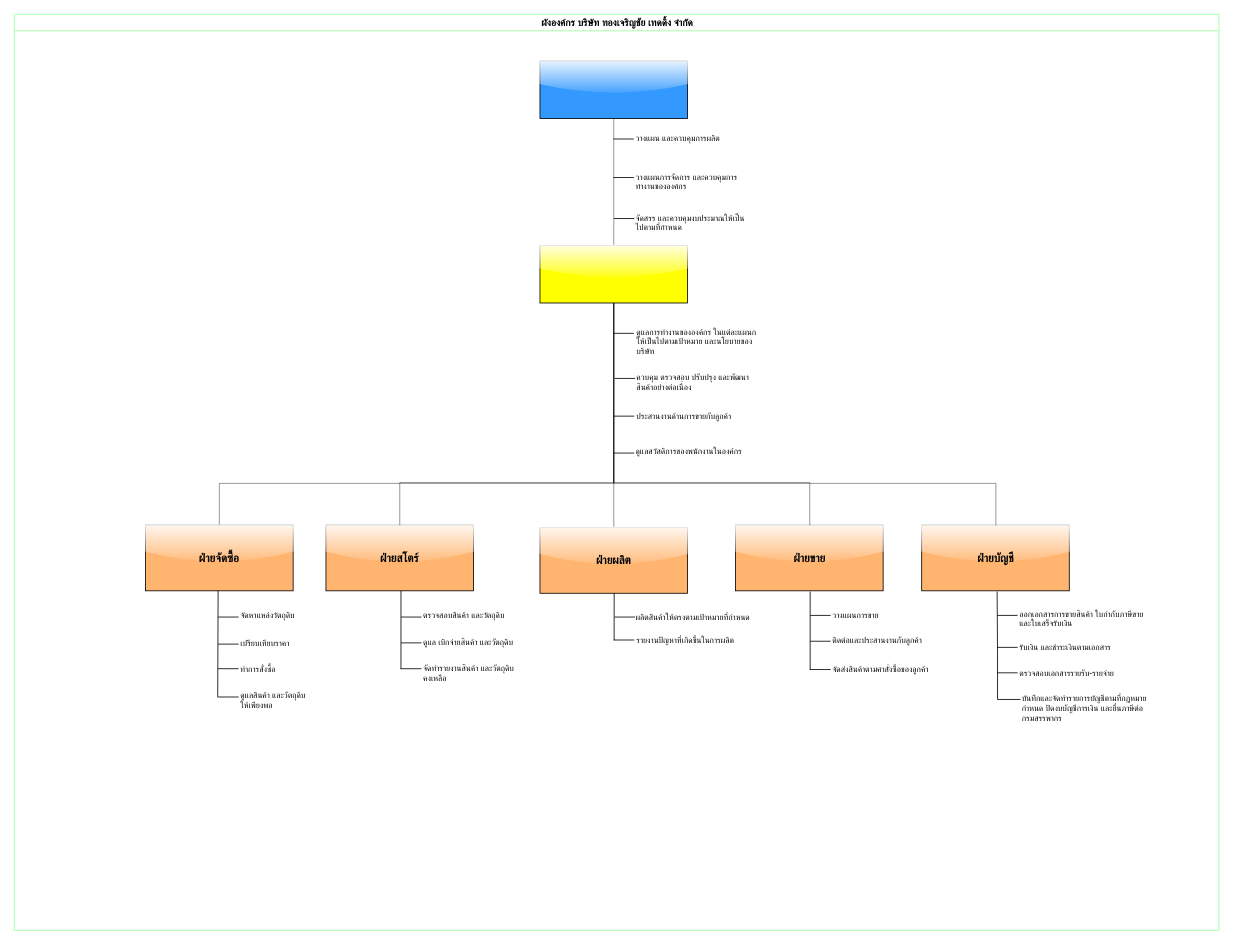
Image size: 1233x945. Some labels were removed from this diagram. The shapes that lost their labels are listed below. From the top down, each one's centre as x and y in pixels, then its label:
At (x=613, y=89): "กรรมการผู้จัดการ".
At (x=613, y=274): "ฝ่ายบริหาร".
